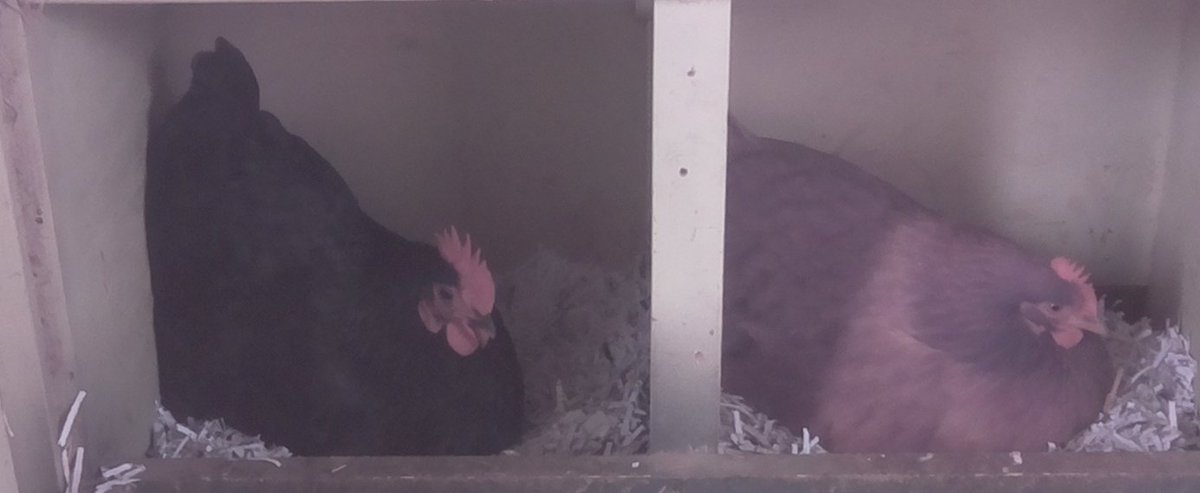hen: (140, 36, 531, 451), (731, 122, 1118, 452)
